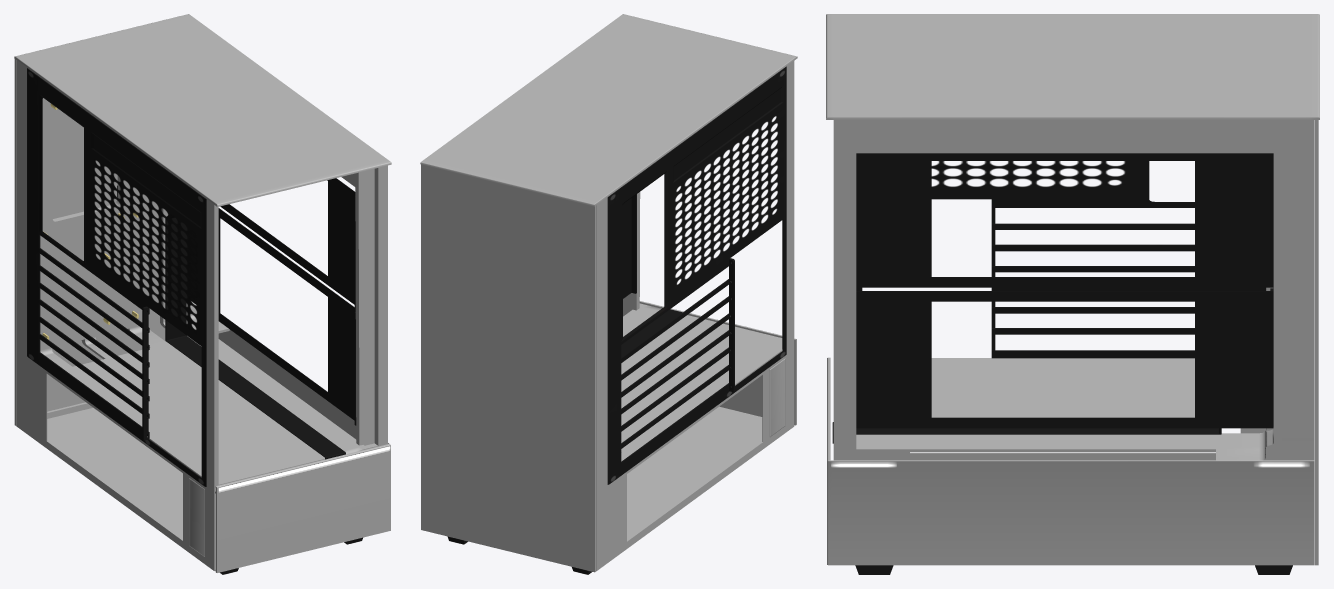
The model's file is case-lianli-o11d-evo.glb.
The picture shows the model from 3 angles, left to right: view 1: azimuth 30°, elevation 25°; view 2: azimuth 150°, elevation 25°; view 3: azimuth 270°, elevation 25°; orthographic projection. The views are drawn at different scales.
Visible parts, largest first — view 1: body; view 2: body; view 3: body.
Part boxes in pixels (x1=…): body: x1=14, y1=14, x2=391, y2=574; body: x1=420, y1=14, x2=797, y2=574; body: x1=826, y1=14, x2=1319, y2=574.
Bounding box in the file's own units: 0.23 × 0.47 × 0.45.
3 materials, 1 textured.
